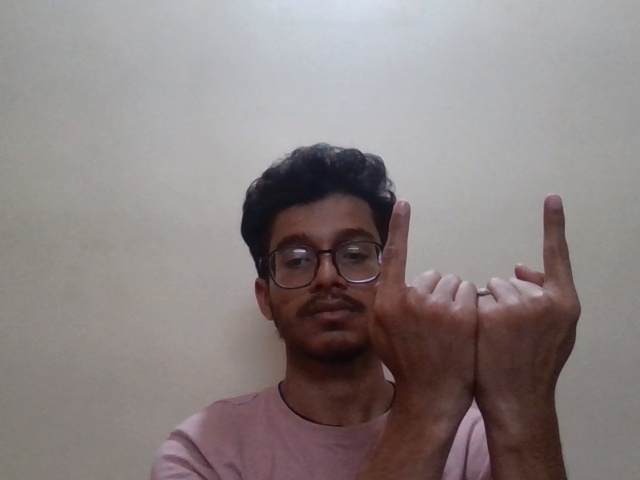when: (367, 191, 594, 386)
